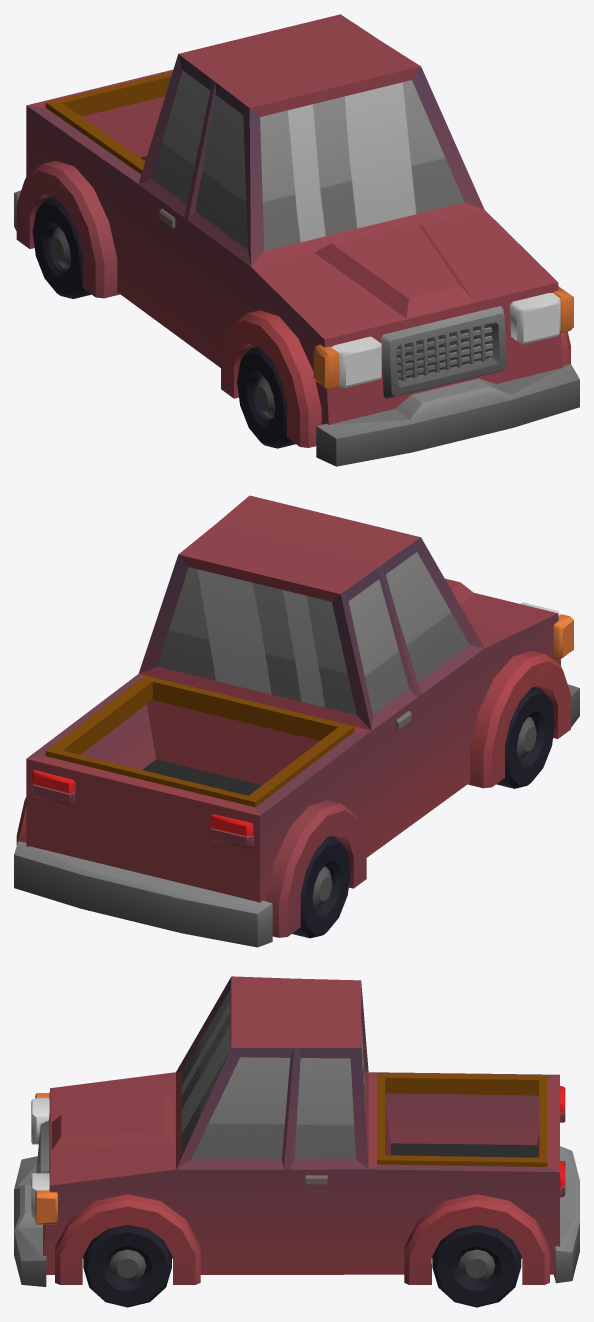
Rendered from PickUp_12.fbx.
3 views of the same model, one above another, from view 1: azimuth 30°, elevation 25°; view 2: azimuth 150°, elevation 25°; view 3: azimuth 270°, elevation 25° (orthographic). The views are drawn at different scales.
Visible parts, largest first — view 1: PickUp_12, BWhel_BR, BWhel_FR; view 2: PickUp_12, BWhel_BR, BWhel_FR; view 3: PickUp_12, BWhel_BL, BWhel_FL.
Boxes of the visible parts, x1=… form: PickUp_12: x1=14, y1=14, x2=579, y2=466; BWhel_BR: x1=32, y1=197, x2=91, y2=298; BWhel_FR: x1=237, y1=346, x2=295, y2=448; PickUp_12: x1=14, y1=495, x2=579, y2=947; BWhel_BR: x1=292, y1=836, x2=350, y2=938; BWhel_FR: x1=496, y1=687, x2=554, y2=788; PickUp_12: x1=14, y1=976, x2=579, y2=1286; BWhel_BL: x1=432, y1=1225, x2=521, y2=1307; BWhel_FL: x1=83, y1=1225, x2=171, y2=1307.
Size of the model in its own units: 109 by 108 by 230.
